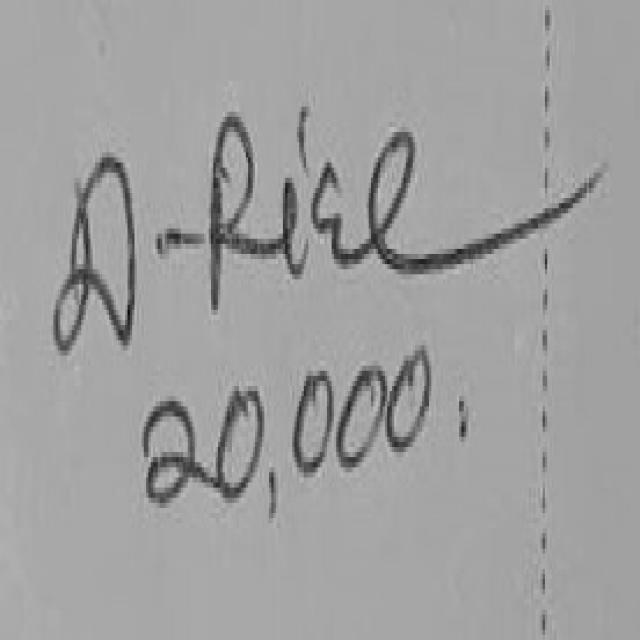0: (336, 371, 390, 476), (218, 391, 264, 498), (390, 346, 432, 450), (294, 371, 333, 475)
2: (144, 401, 221, 500)
D: (79, 157, 138, 343)
R: (211, 112, 278, 307)
e: (371, 132, 587, 272)
i: (270, 177, 309, 279), (298, 108, 308, 156)
s: (309, 163, 373, 271)
